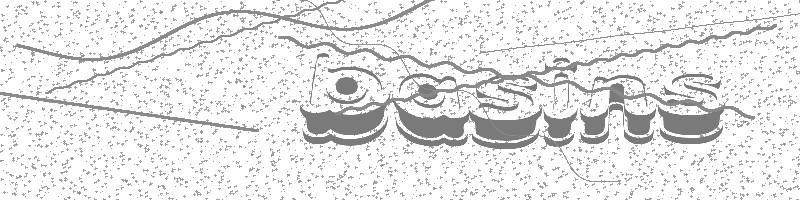a: (392, 73, 470, 148)
b: (298, 51, 390, 147)
i: (544, 57, 578, 149)
n: (579, 74, 657, 146)
s: (470, 75, 544, 152), (658, 72, 725, 145)
